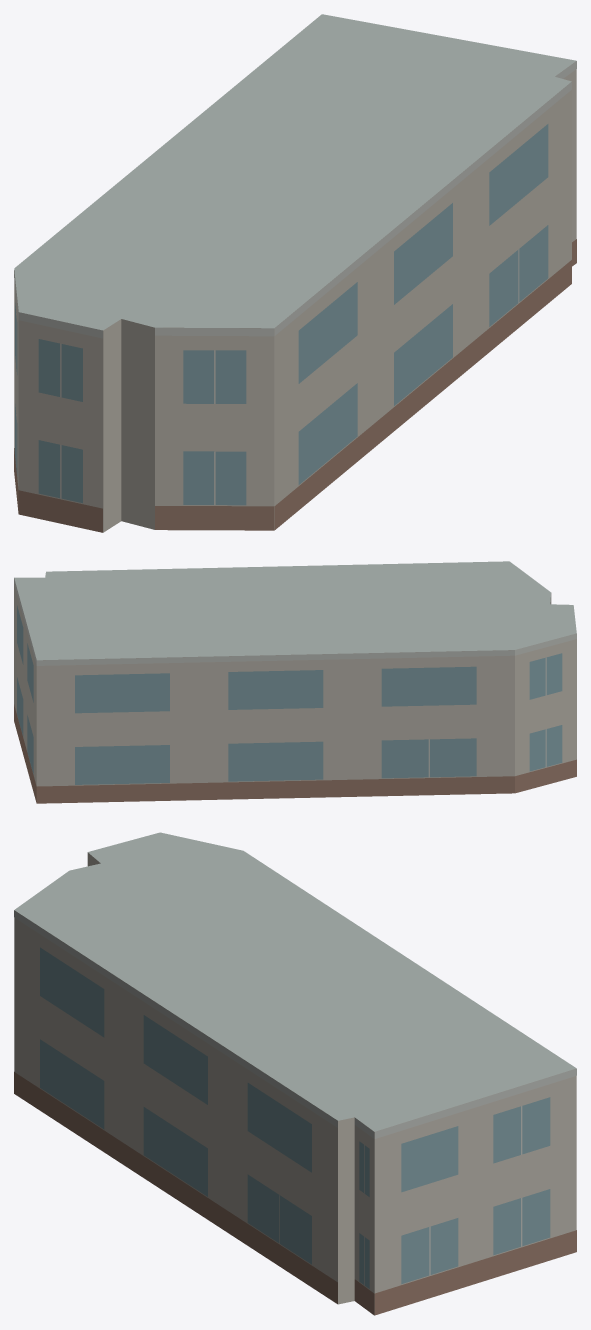
Rendered from survey-upis-32992694.glb.
3 views of the same model, one above another, from view 1: azimuth 30°, elevation 25°; view 2: azimuth 150°, elevation 25°; view 3: azimuth 270°, elevation 25° (orthographic). The views are drawn at different scales.
Visible parts, largest first — view 1: survey-upis-32992694.tmp; view 2: survey-upis-32992694.tmp; view 3: survey-upis-32992694.tmp.
Part boxes in pixels (<box>): survey-upis-32992694.tmp: <box>14,14,576,532</box>; survey-upis-32992694.tmp: <box>14,561,576,803</box>; survey-upis-32992694.tmp: <box>14,832,576,1315</box>.
Bounding box in the file's own units: 21.34 × 6.1 × 16.95.
